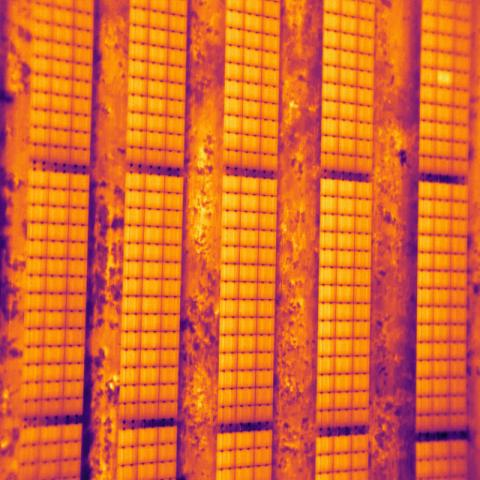fault: (437, 68, 454, 90)
